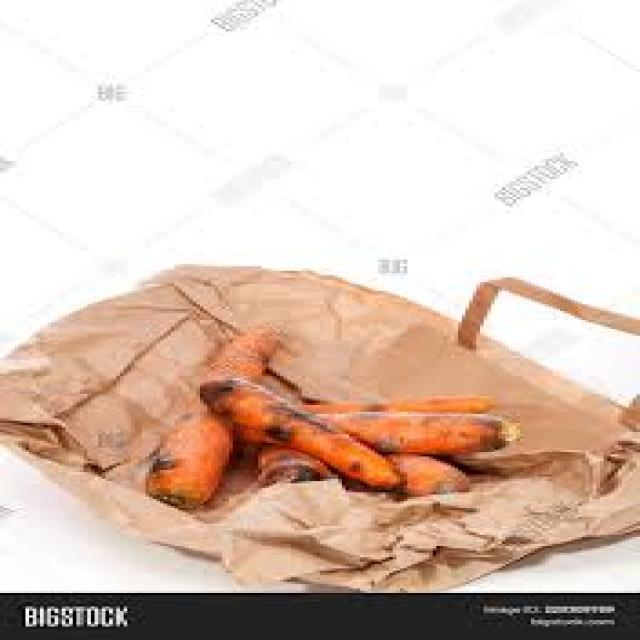Stale_Carrot: (153, 331, 288, 512), (197, 376, 407, 492), (323, 413, 517, 459), (401, 459, 468, 497)
